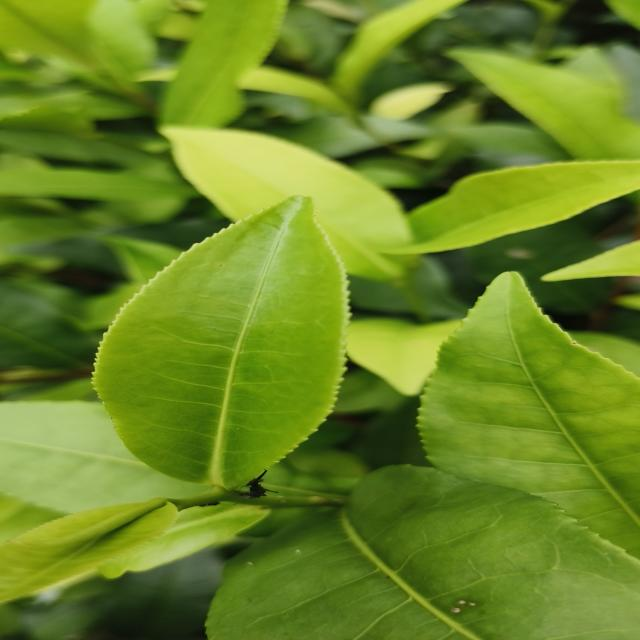Leaf: (208, 465, 640, 640), (94, 196, 348, 490), (418, 273, 640, 557), (162, 126, 412, 280), (387, 161, 640, 254), (0, 401, 207, 513), (447, 48, 640, 160), (0, 498, 178, 602), (162, 0, 288, 128), (331, 0, 466, 103), (100, 504, 270, 578), (0, 280, 101, 369), (347, 318, 462, 396), (266, 115, 430, 158), (0, 0, 97, 70), (0, 168, 196, 200), (238, 66, 351, 113), (449, 122, 568, 166), (370, 82, 453, 120)
